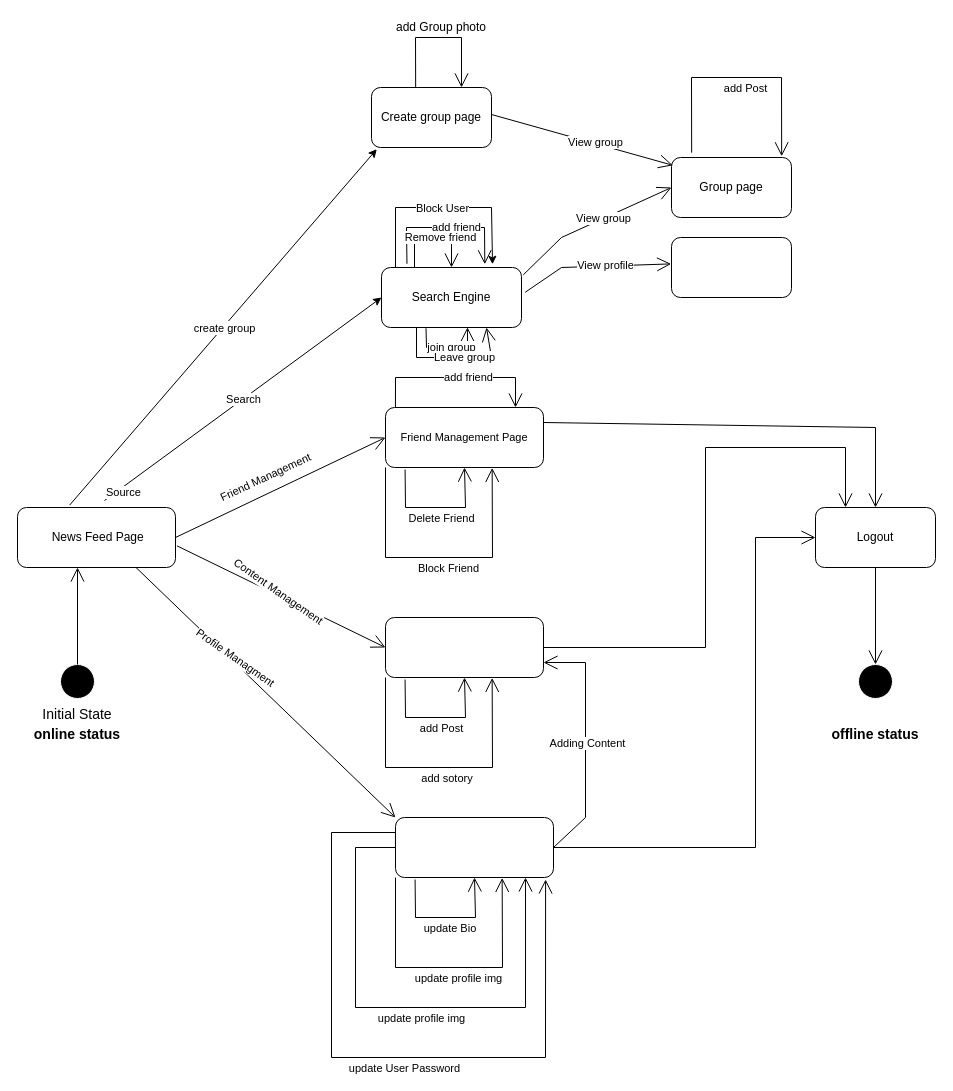
Image size: 953x1091. Some labels were removed from this diagram. The shapes that lost their labels are listed below. From the top down, each one's centre as x and y in pixels, then its label:
At (x=731, y=267): "User page".
At (x=464, y=647): "Content Management Page".
At (x=474, y=847): "Profile Page".
